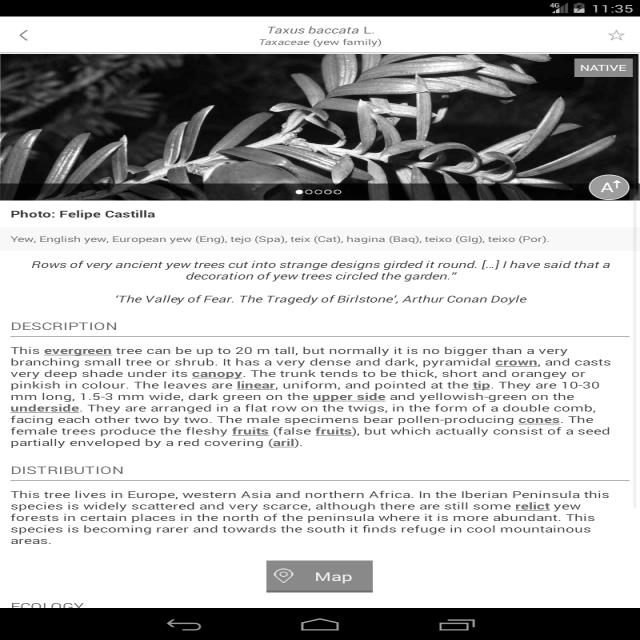Button: (266, 560, 374, 592)
ImageButton: (11, 28, 54, 43)
ImageView: (0, 48, 634, 199)
RatingBar: (602, 27, 634, 43)
TextView: (7, 346, 614, 446), (7, 486, 609, 546), (26, 257, 614, 280), (7, 232, 557, 248), (118, 292, 543, 310), (249, 16, 392, 48), (9, 207, 161, 221), (11, 320, 121, 334), (4, 464, 126, 476)
